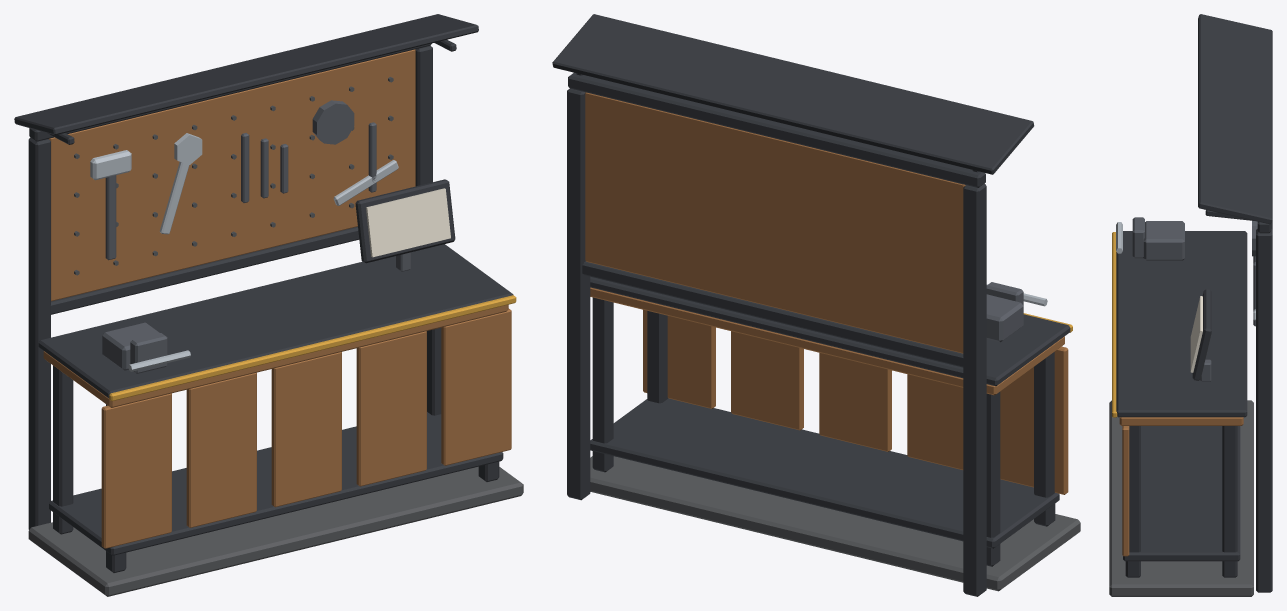
File: Lobby7_ToolCounter.fbx
The picture shows the model from 3 angles, left to right: view 1: azimuth 30°, elevation 25°; view 2: azimuth 150°, elevation 25°; view 3: azimuth 270°, elevation 25°; orthographic projection. The views are drawn at different scales.
Parts seen in each view (by area): view 1: Wood, Charcoal, SlateStoneDark, CharcoalLight, Screen, SteelLight, WarmAmber; view 2: Charcoal, Wood, SlateStoneDark, CharcoalLight; view 3: Charcoal, SlateStoneDark, CharcoalLight, Wood, WarmAmber, Screen, SteelLight.
Boxes of the visible parts, left/top/right/bottom form: Wood: left=43, top=49, right=511, bottom=548; Charcoal: left=14, top=14, right=513, bottom=572; SlateStoneDark: left=28, top=77, right=523, bottom=596; CharcoalLight: left=102, top=100, right=410, bottom=373; Screen: left=366, top=188, right=450, bottom=257; SteelLight: left=90, top=133, right=398, bottom=371; WarmAmber: left=109, top=295, right=516, bottom=401; Charcoal: left=552, top=14, right=1070, bottom=596; Wood: left=585, top=92, right=1068, bottom=494; SlateStoneDark: left=590, top=456, right=1080, bottom=591; CharcoalLight: left=986, top=282, right=1023, bottom=342; Charcoal: left=1116, top=14, right=1272, bottom=592; SlateStoneDark: left=1109, top=400, right=1253, bottom=596; CharcoalLight: left=1132, top=217, right=1257, bottom=381; Wood: left=1119, top=417, right=1243, bottom=556; WarmAmber: left=1112, top=232, right=1117, bottom=417; Screen: left=1190, top=296, right=1202, bottom=372; SteelLight: left=1116, top=222, right=1255, bottom=320.
Bounding box in the file's own units: 6.5 × 6.35 × 2.37.
